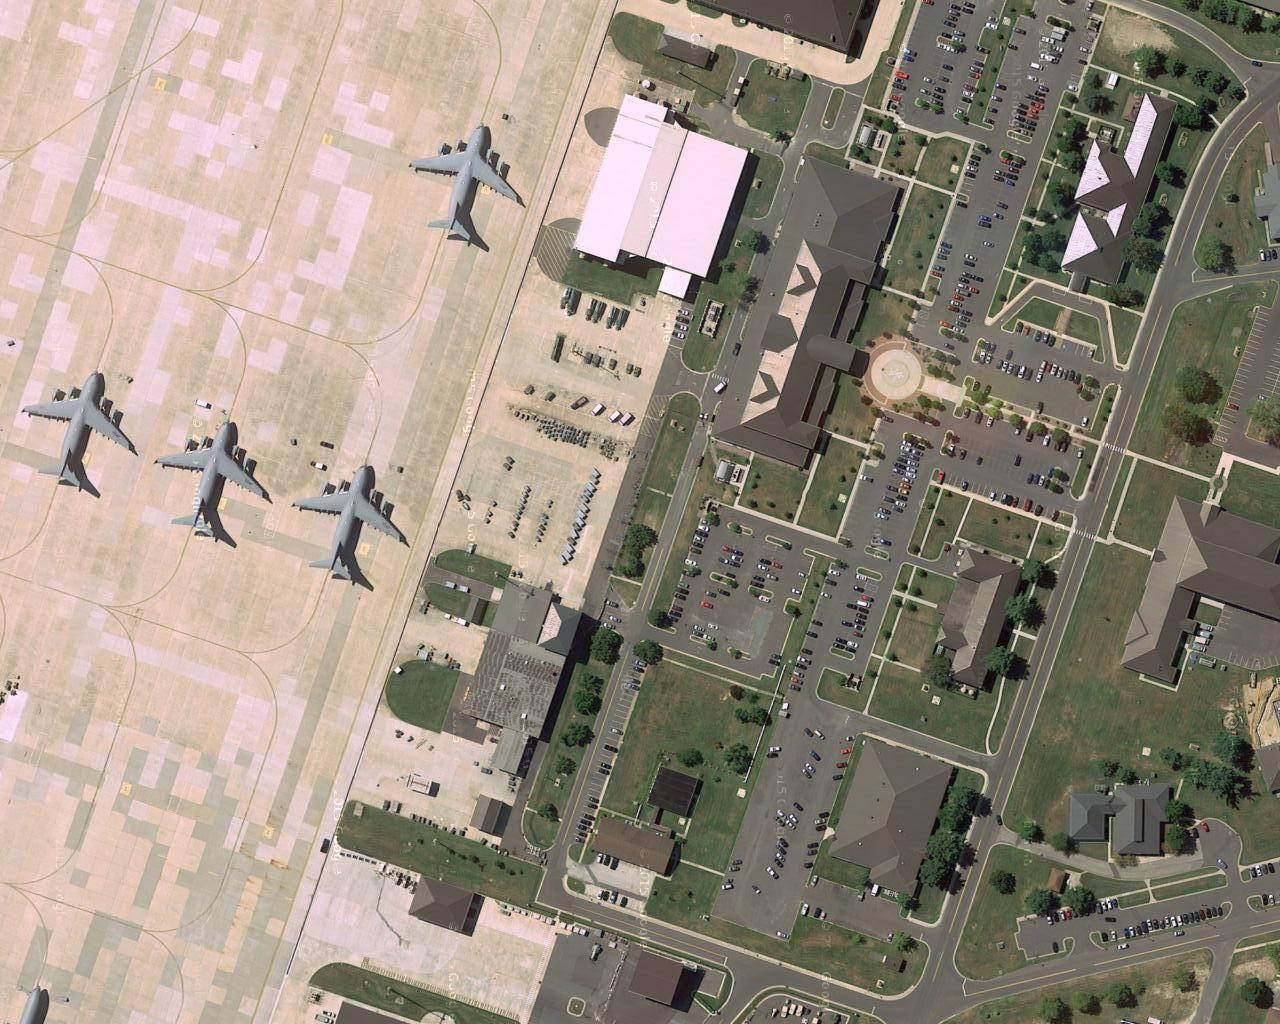C-17: (289, 452, 422, 590), (18, 365, 144, 496), (154, 412, 272, 548), (411, 119, 525, 246)
